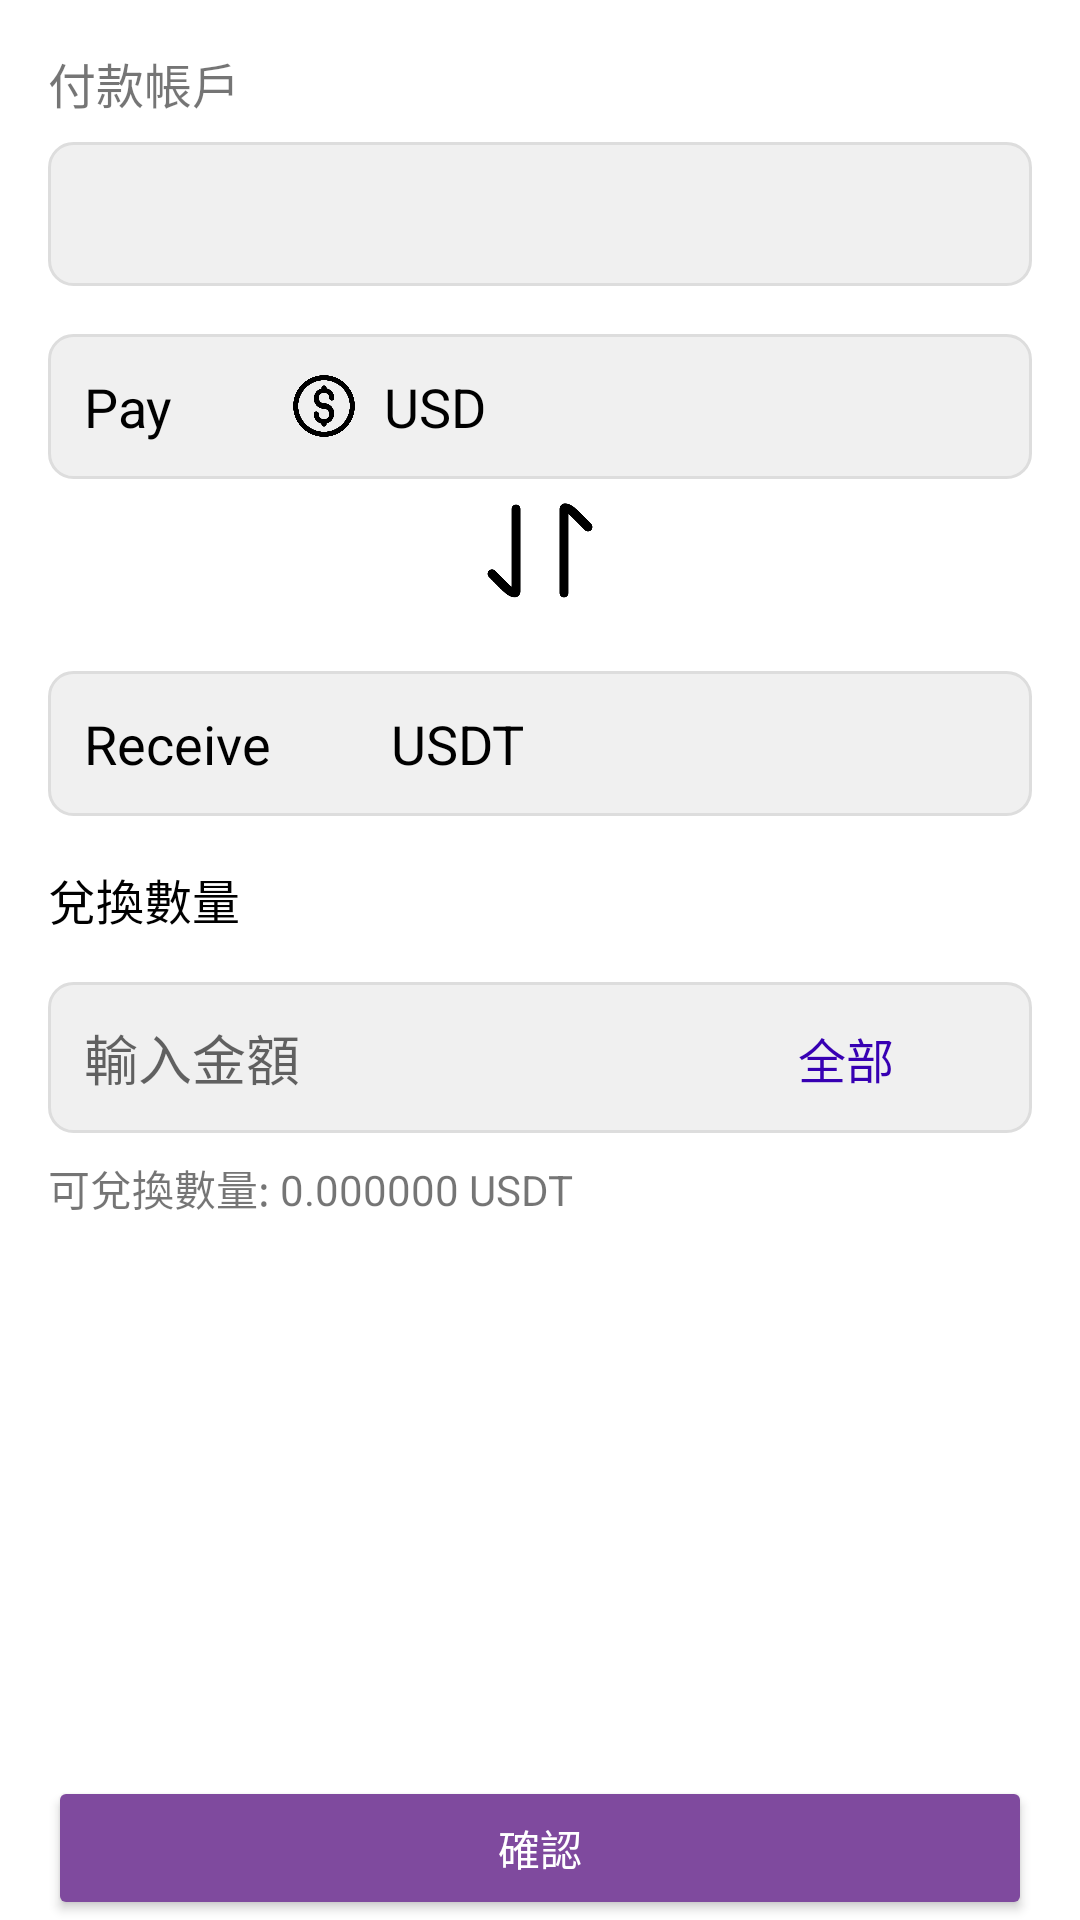

Where icons sit on this 1080x1920 app screen, as (x1, y1, x2, y2):
switch: (487, 503, 593, 598)
